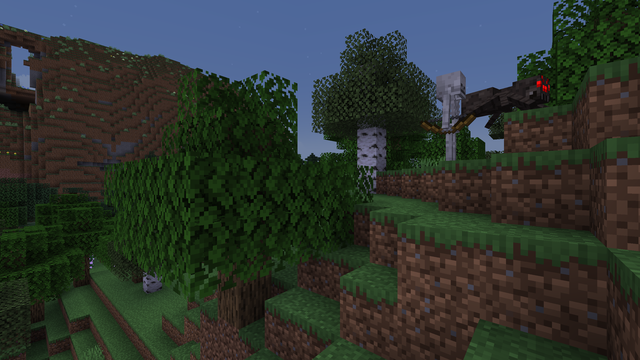araignees: (471, 64, 548, 129)
squelettes: (433, 69, 467, 163)
